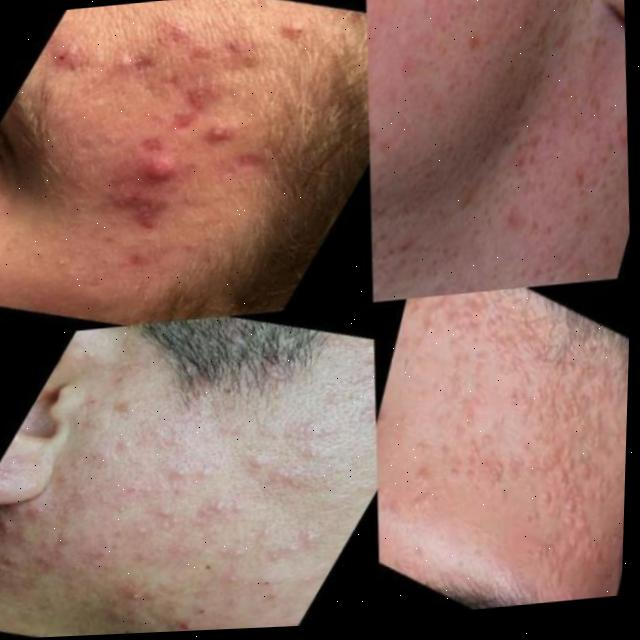Acne: (364, 0, 606, 287), (372, 347, 629, 562), (50, 411, 263, 637), (105, 40, 281, 241)
